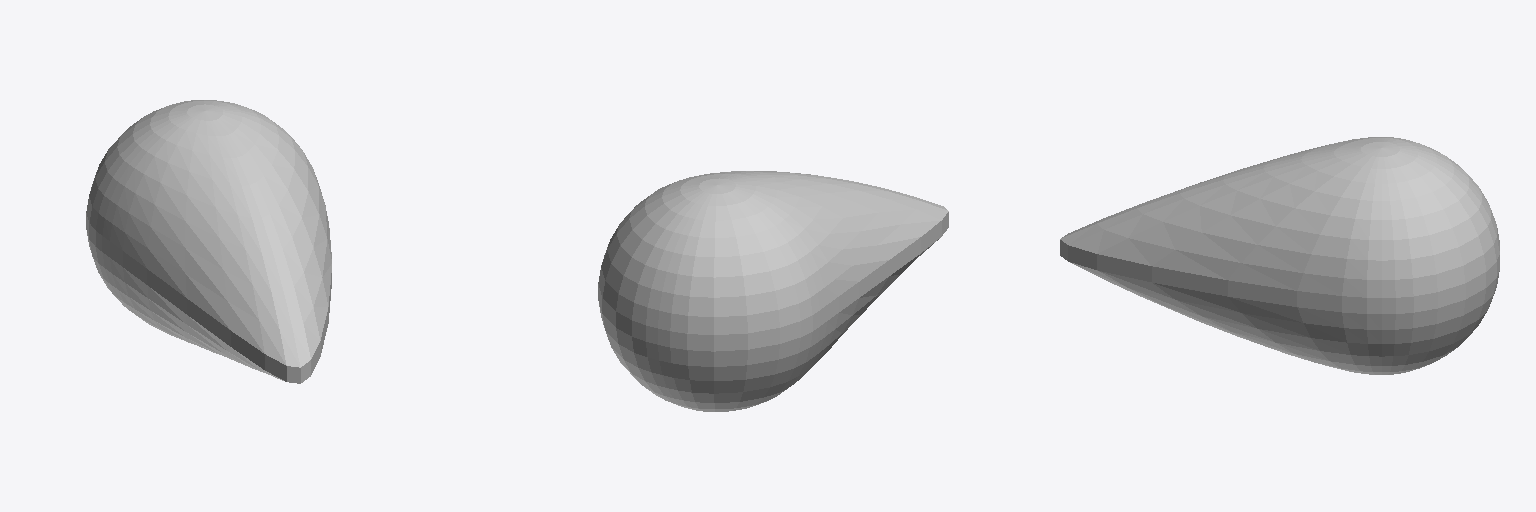
3 views of the same model, side by side, from view 1: azimuth 30°, elevation 25°; view 2: azimuth 150°, elevation 25°; view 3: azimuth 270°, elevation 25° (orthographic).
Visible parts, largest first — view 1: SurfSphere_Mesh; view 2: SurfSphere_Mesh; view 3: SurfSphere_Mesh.
Boxes of the visible parts, x1,y1,x2,y2 form: SurfSphere_Mesh: [86, 100, 331, 383]; SurfSphere_Mesh: [598, 171, 948, 411]; SurfSphere_Mesh: [1060, 137, 1499, 374].
Size of the model in its own units: 6.92 by 6.94 by 12.83.